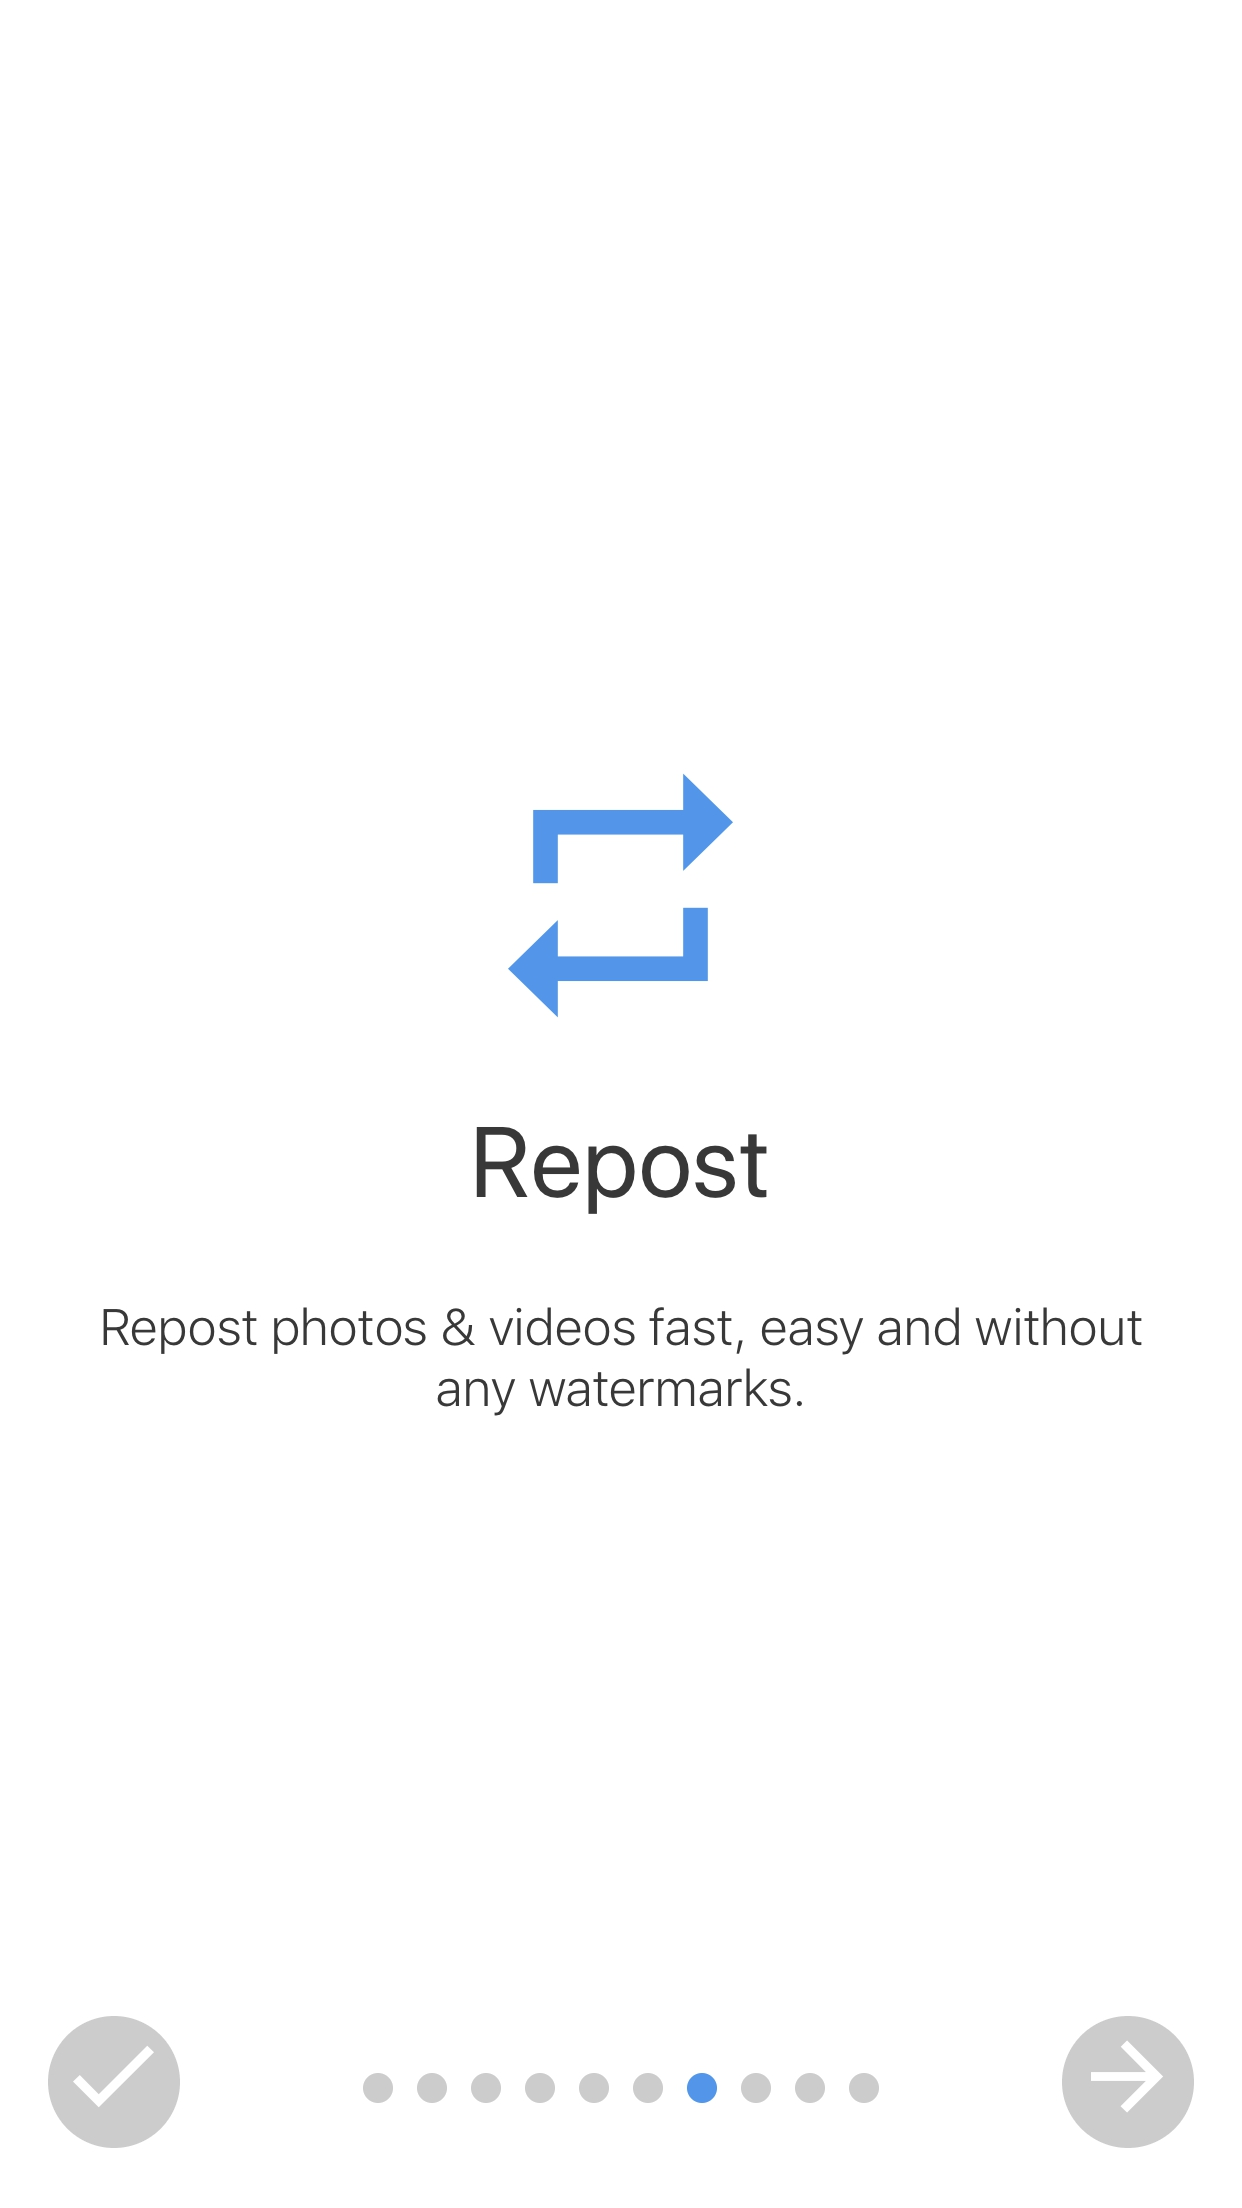Icon: (508, 773, 732, 1018), (1062, 2015, 1193, 2147), (49, 2015, 180, 2147)
PageIndicator: (362, 2072, 880, 2103)
Text: (103, 1307, 1142, 1416), (476, 1127, 767, 1215)
